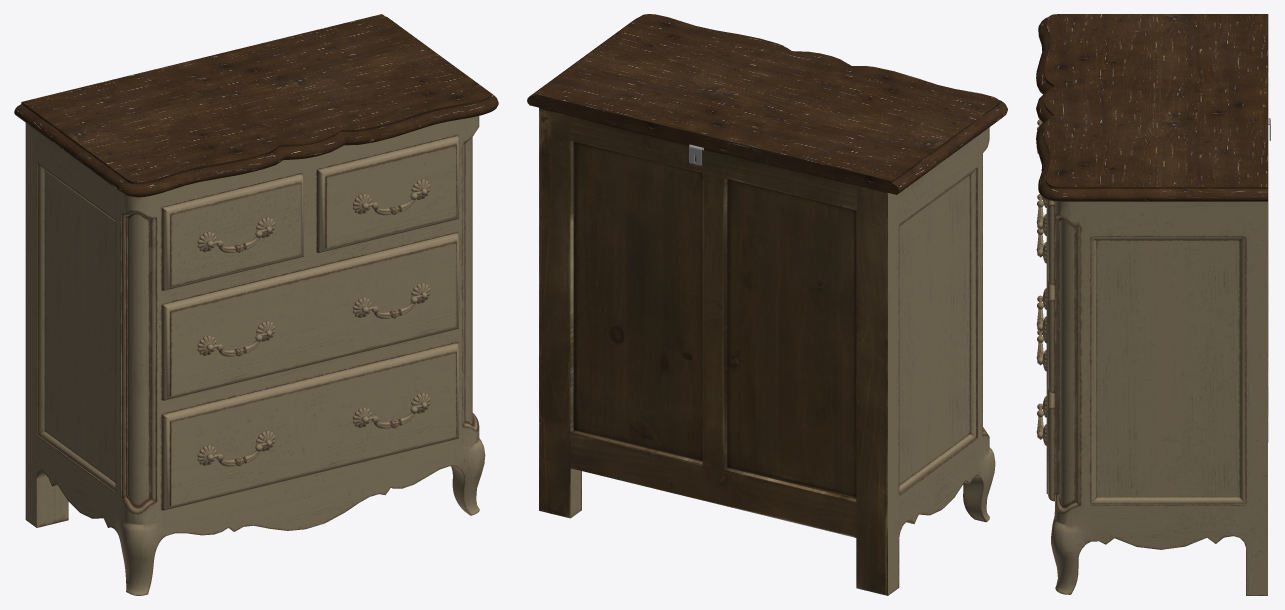
The model's file is example64.gltf.
The picture shows the model from 3 angles, left to right: view 1: azimuth 30°, elevation 25°; view 2: azimuth 150°, elevation 25°; view 3: azimuth 270°, elevation 25°; orthographic projection.
Size of the model in its own units: 76.81 by 82 by 42.41.
Materials: 4 (3 with a texture image).
